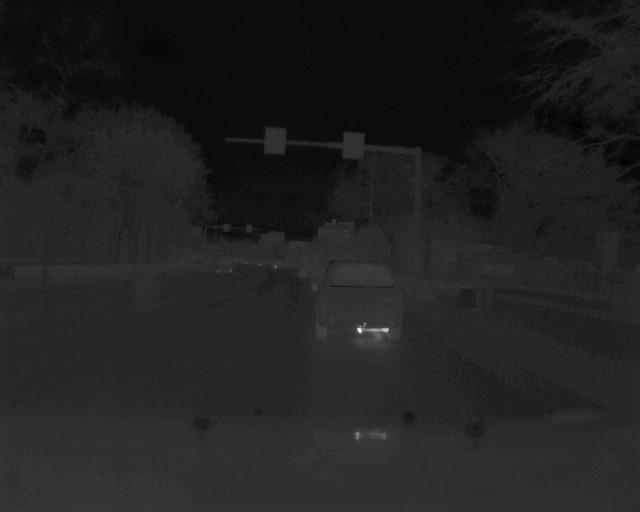person: (312, 257, 405, 345)
